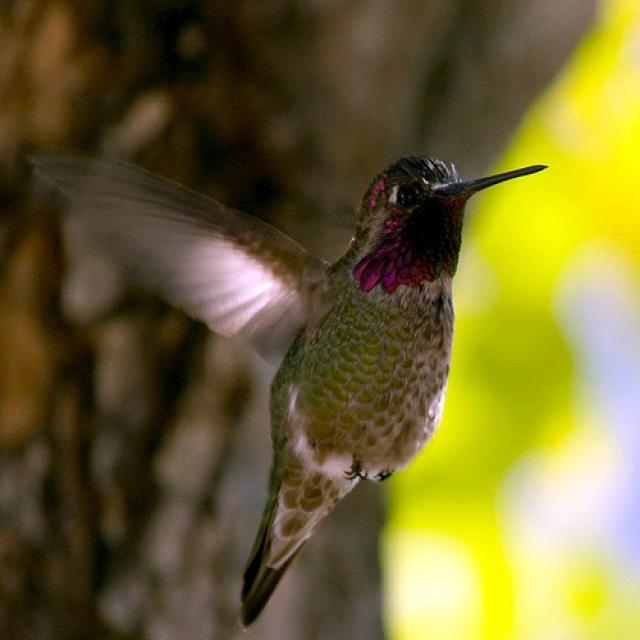bird: (28, 122, 554, 626)
